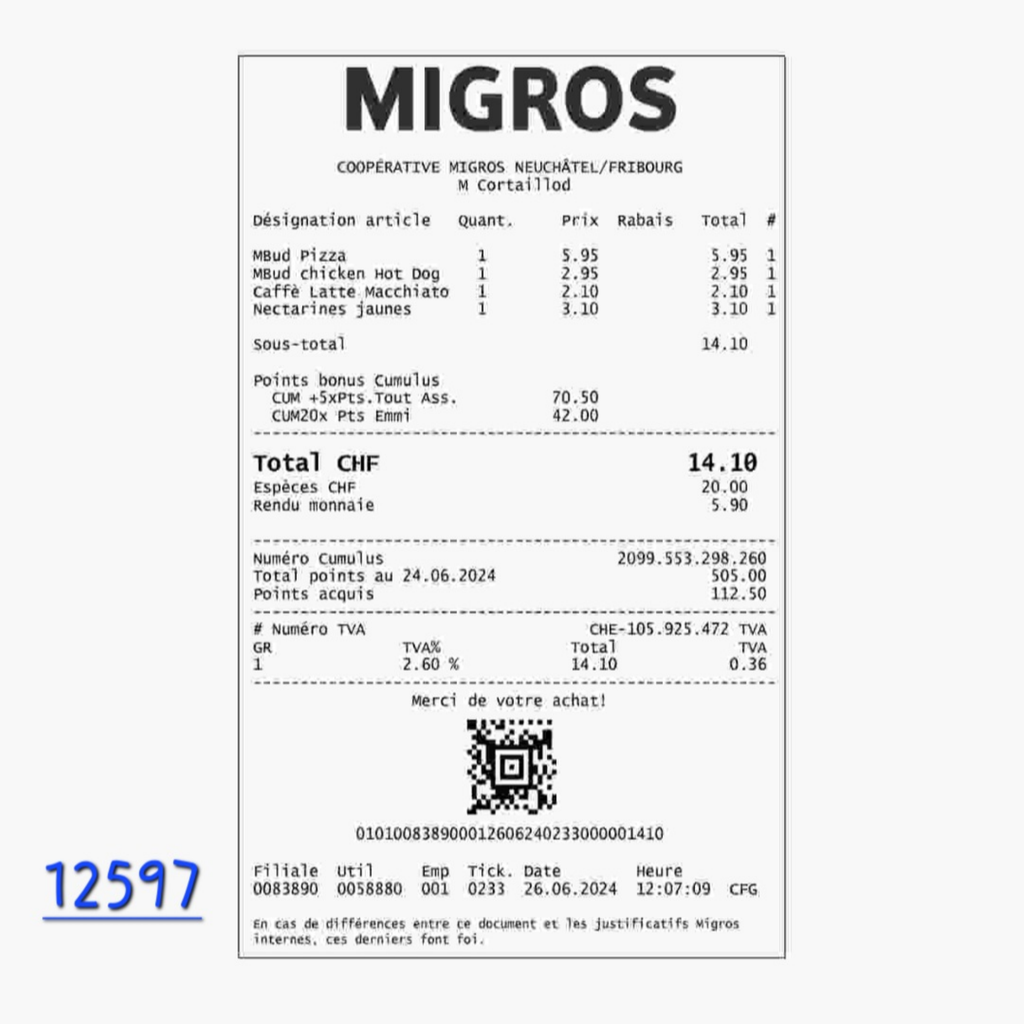recipt: (237, 57, 787, 963)
